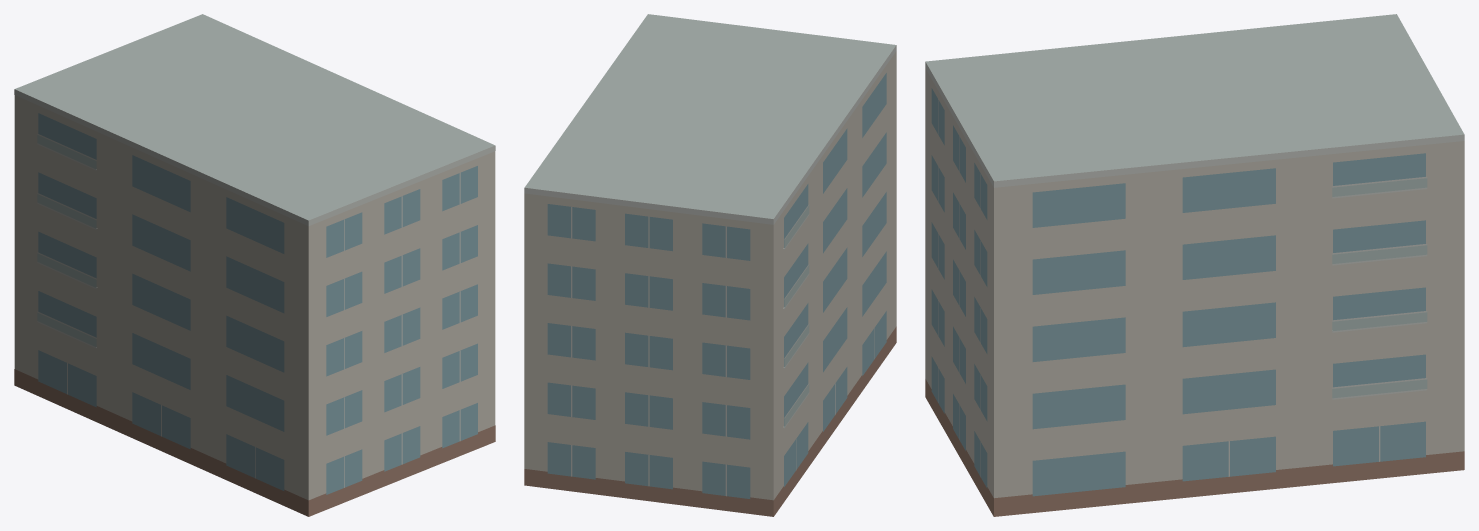
The model's file is survey-upis-32968178.glb.
The picture shows the model from 3 angles, left to right: view 1: azimuth 30°, elevation 25°; view 2: azimuth 150°, elevation 25°; view 3: azimuth 270°, elevation 25°; orthographic projection. The views are drawn at different scales.
Visible parts, largest first — view 1: survey-upis-32968178.tmp; view 2: survey-upis-32968178.tmp; view 3: survey-upis-32968178.tmp.
Part boxes in pixels (box(x1,y1,x2,y2)): survey-upis-32968178.tmp: box(14, 14, 495, 516); survey-upis-32968178.tmp: box(524, 14, 896, 516); survey-upis-32968178.tmp: box(925, 14, 1464, 516).
Bounding box in the file's own units: 13.6 × 12.7 × 18.51.
